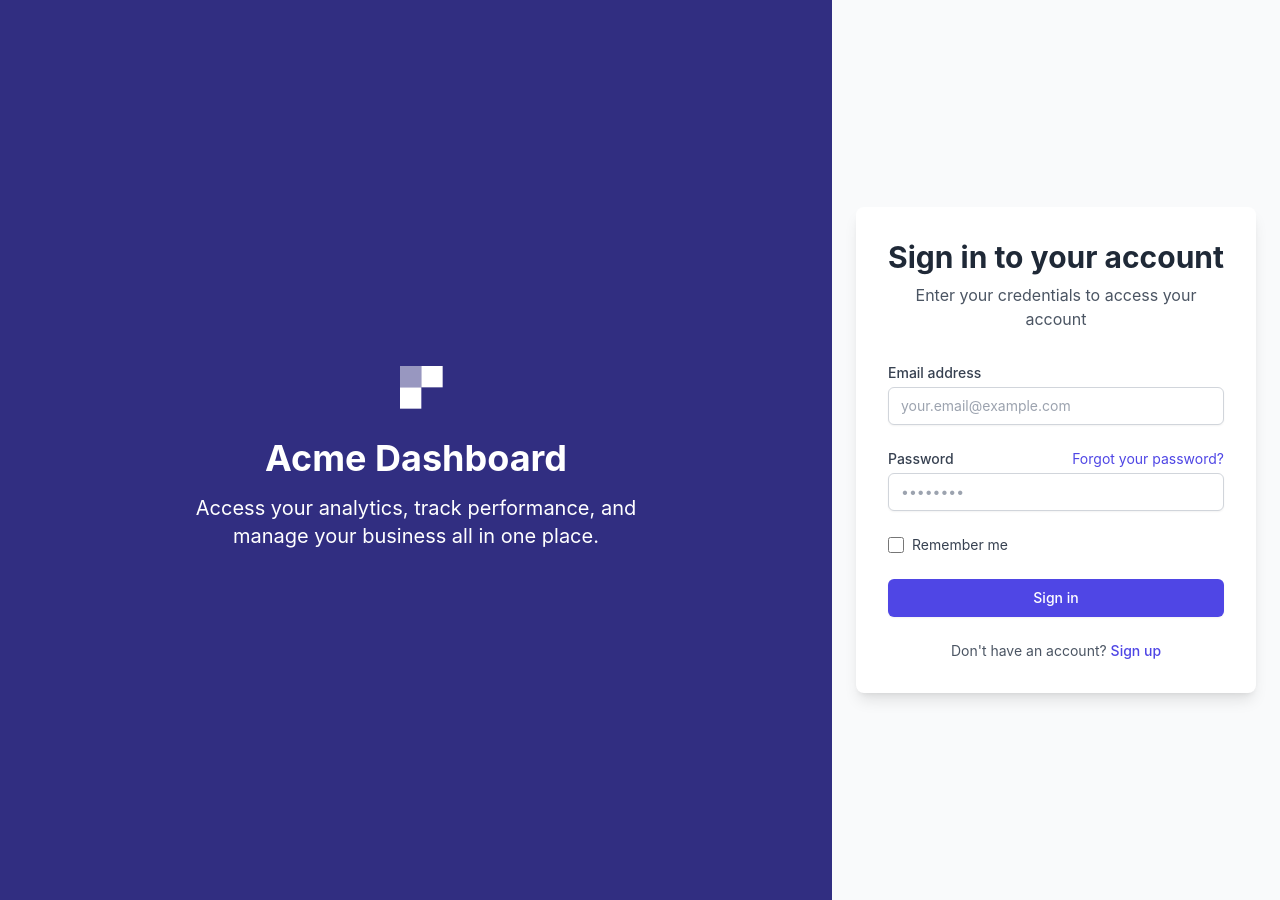
Scenario: LoginPage Component › displays an error message on unsuccessful login
Step 1. Type "wrong@example.com" into the field with test id "email-input" → [1056, 406], box [888,387,1224,425]
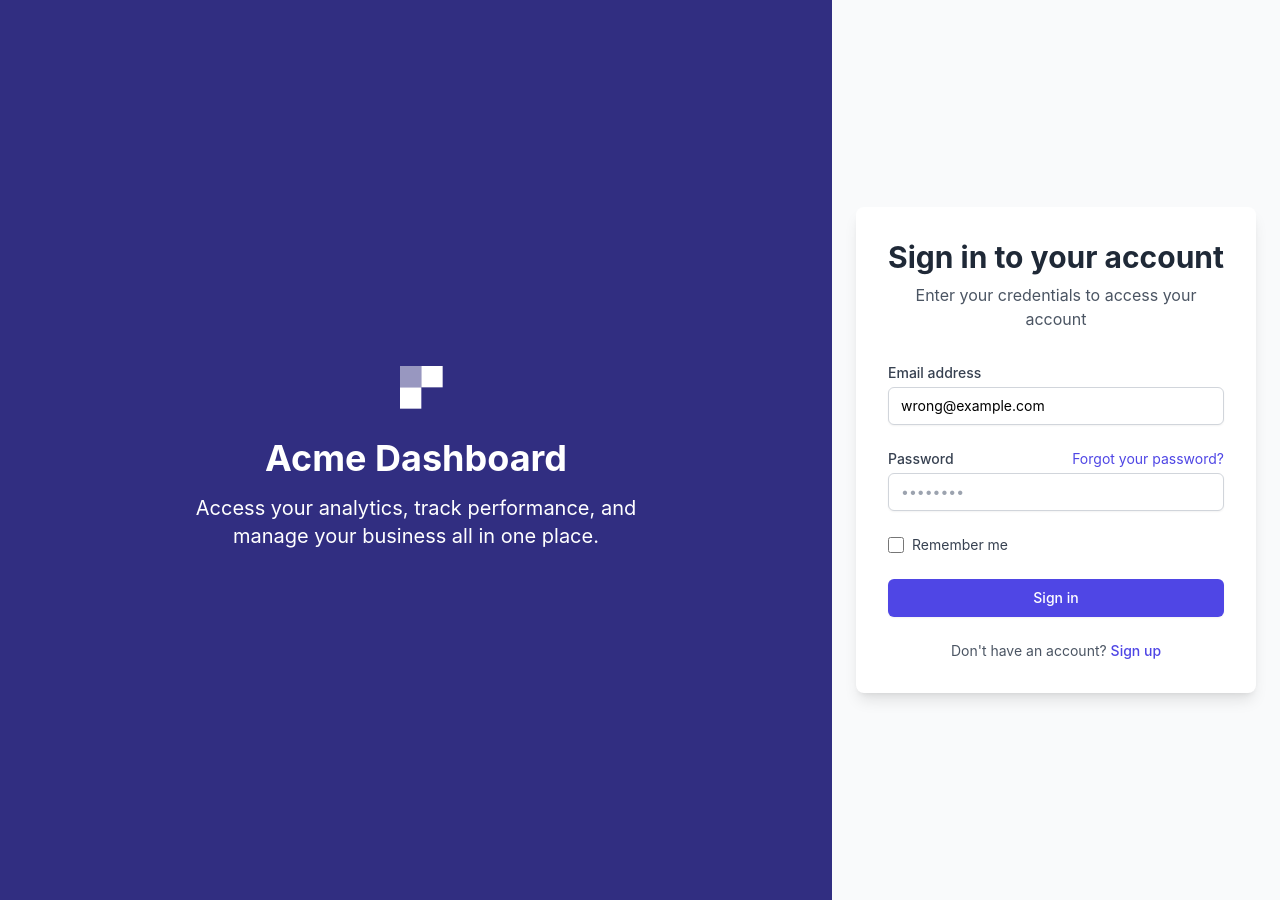
Step 2. Type "wrongpassword" into the password field with test id "password-input" → [1056, 492], box [888,473,1224,511]
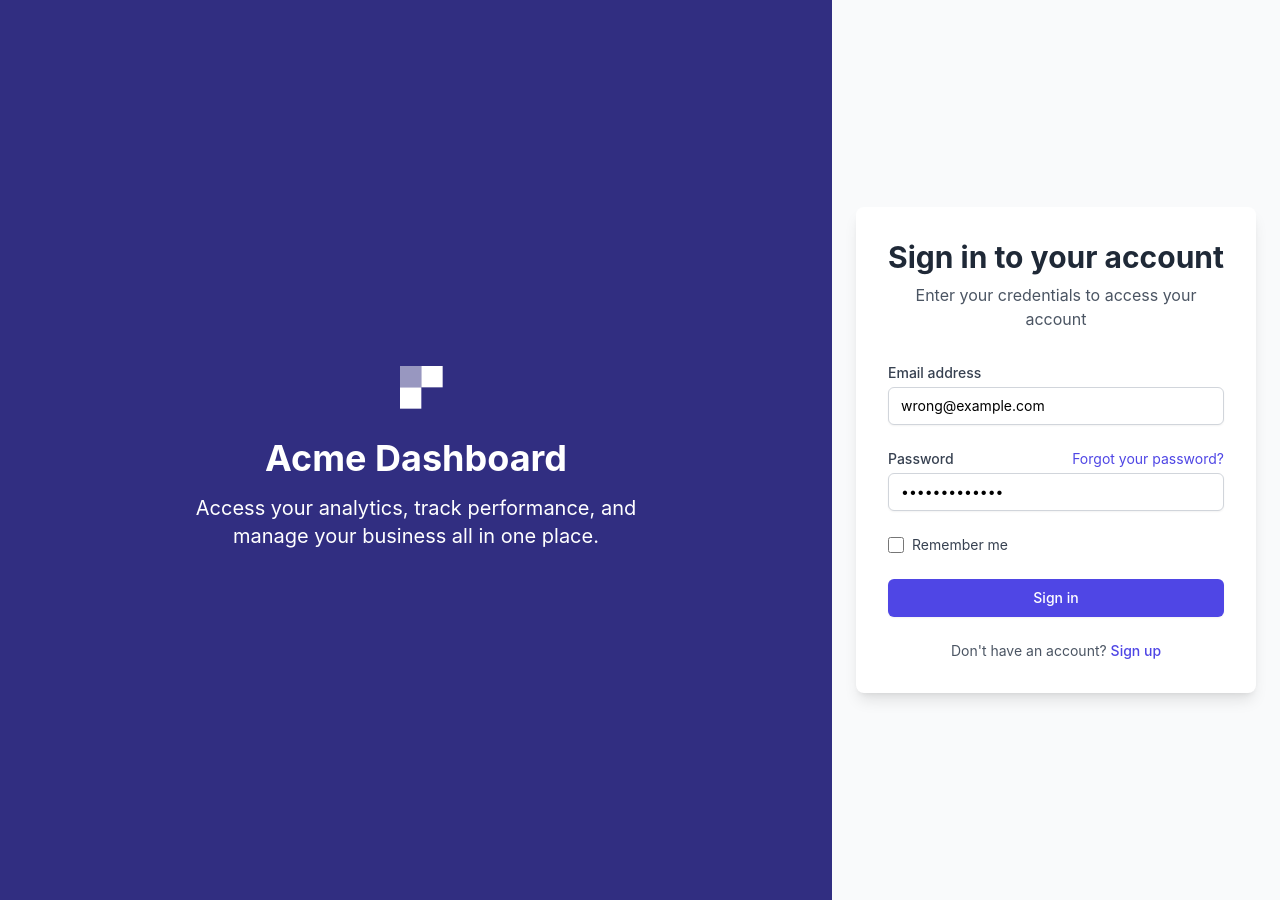
Step 3. Click the button with test id "login-button" → [1056, 598], box [888,579,1224,617]
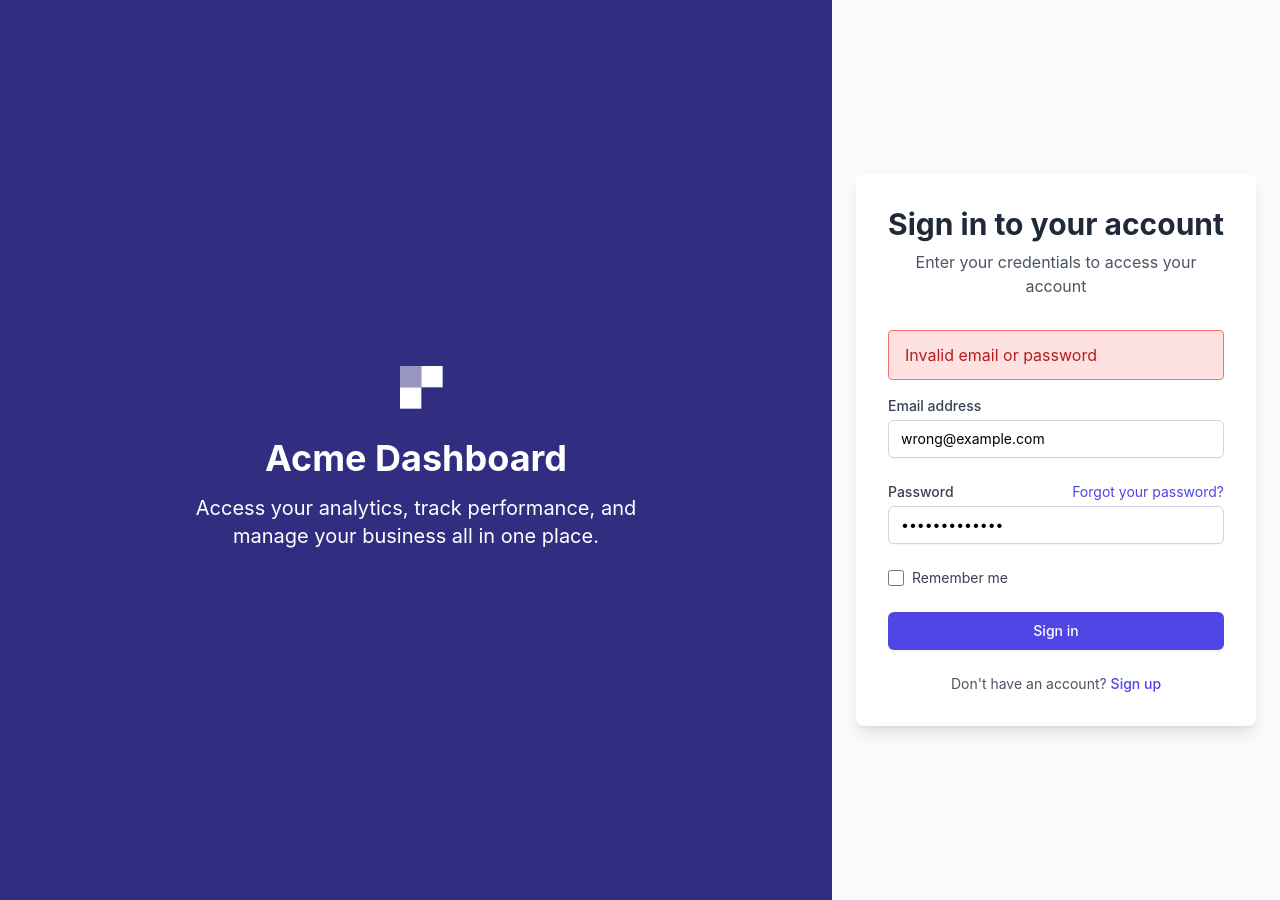
Result: the message "Invalid email or password" is shown at [888,330,1224,380]
